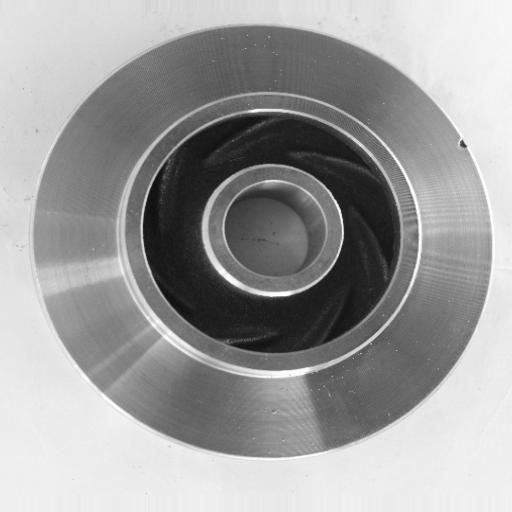crack: (450, 126, 479, 158)
unpolished_casting: (29, 23, 494, 463)
